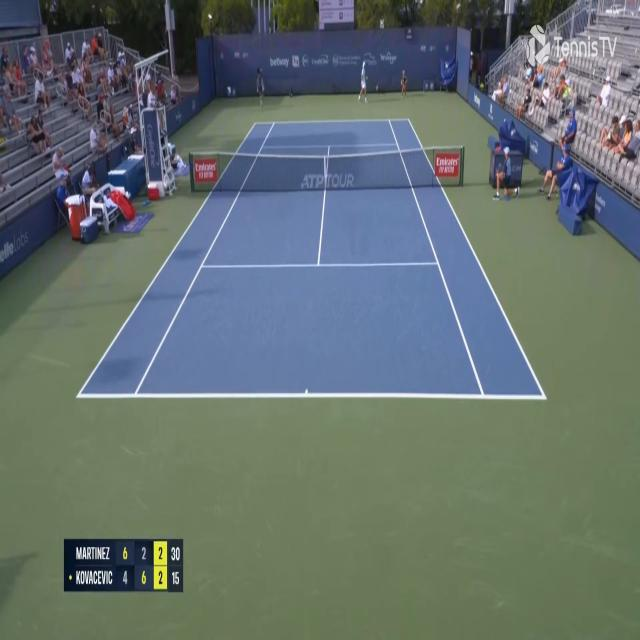tennis-player: (357, 61, 370, 106)
